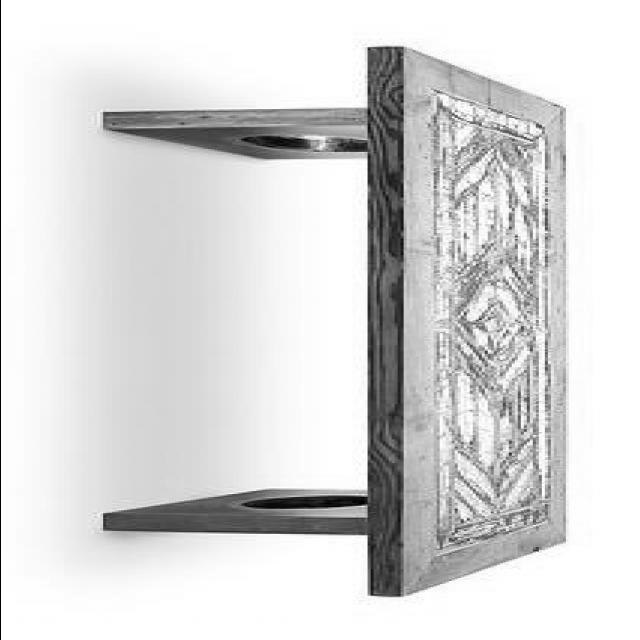table: (100, 46, 568, 594)
